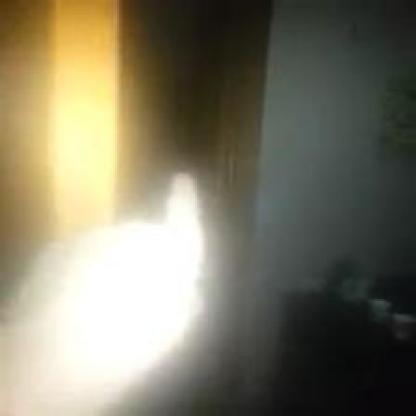other: (30, 188, 195, 378)
